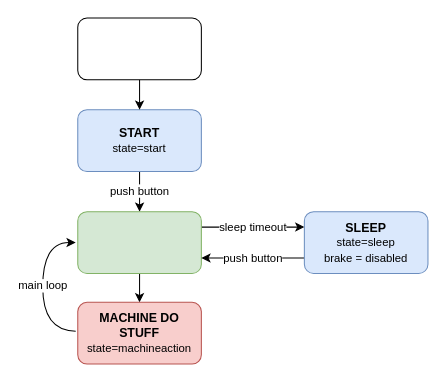
The diagram is 446 pixels wide and 382 high, and some of its shapes have lost their labels. Here are the shapes that lost their labels. From the top down, the box of each, then its label:
(77, 17, 201, 80): Start the PLC
(77, 211, 201, 273): USER DO STUFF state = useraction brake = enabled
